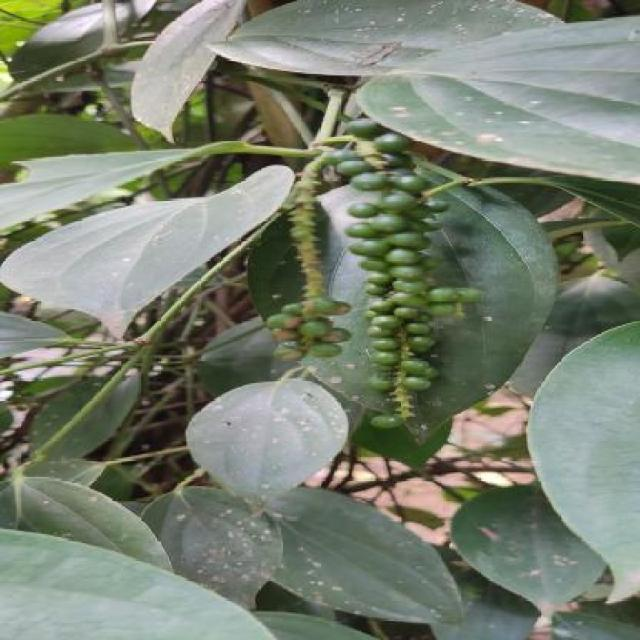UNRIPE: (332, 117, 480, 428), (273, 302, 350, 360)
